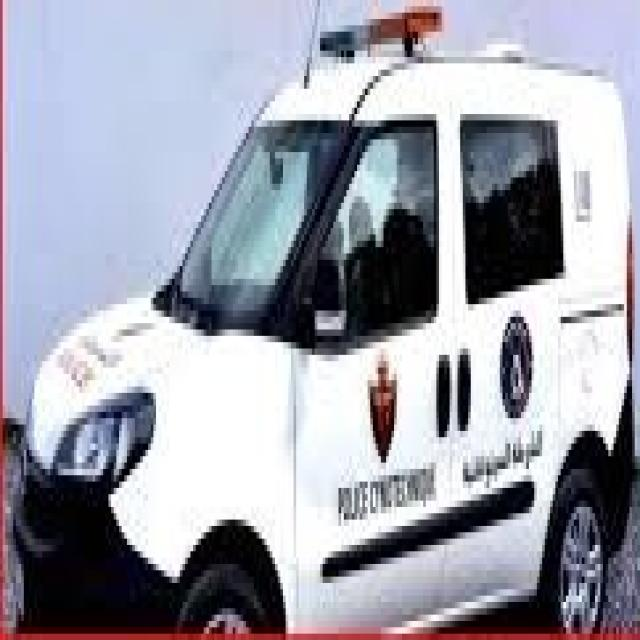police: (19, 14, 634, 636)
